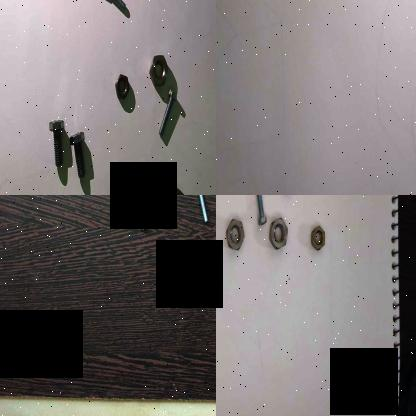Bolts: (43, 115, 68, 170), (68, 130, 92, 186), (156, 86, 180, 138), (95, 0, 137, 20), (189, 195, 211, 223), (254, 195, 268, 230)
NUTS: (147, 51, 171, 93), (224, 216, 246, 252), (268, 216, 290, 251), (310, 224, 326, 254), (113, 74, 128, 102), (114, 172, 132, 195), (165, 182, 189, 195)
